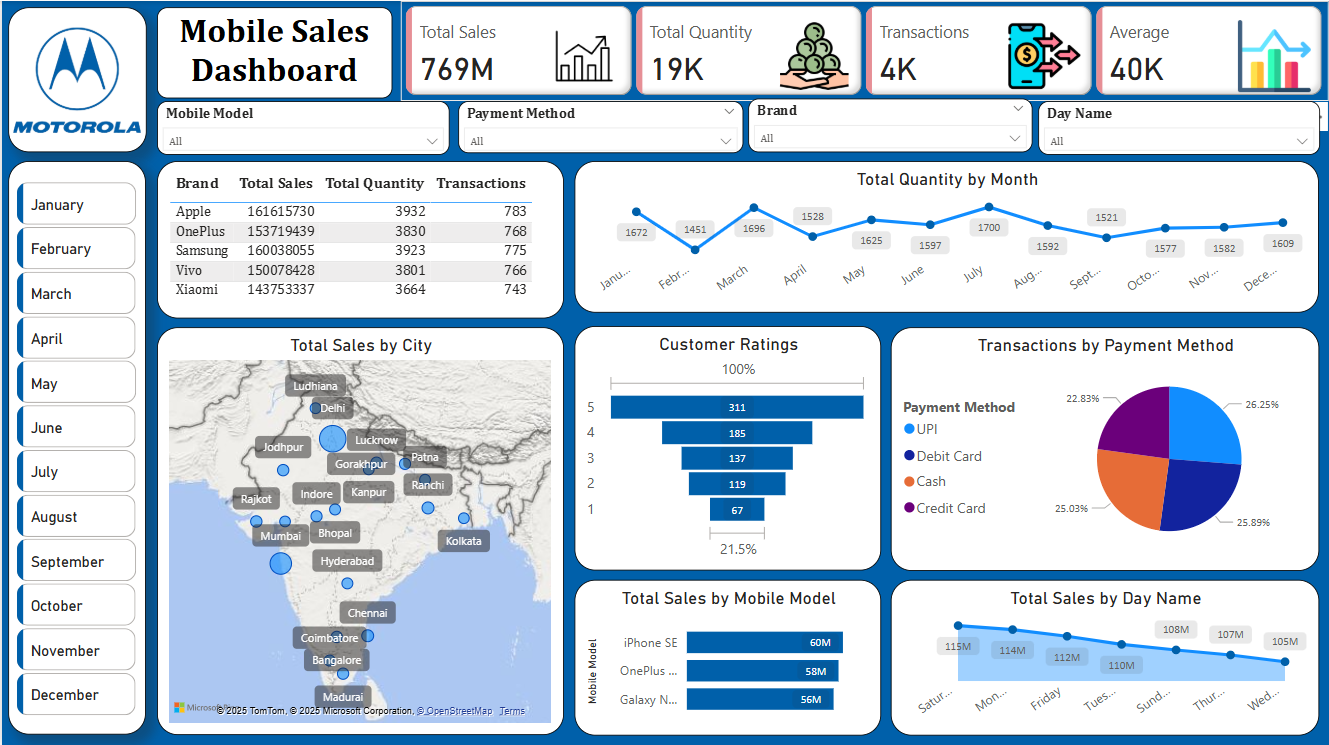

What the dashboard file says about the page in this screenshot:
{"tool":"powerbi","page":{"name":"Dashboard","canvas":[1280,720],"ordinal":0},"visuals":[{"type":"shape","box":[5.5,6.4,133.6,140],"z":0},{"type":"image","box":[5.5,6.4,132.7,140],"z":1000},{"type":"shape","box":[6,154.4,132.7,553.8],"z":2000},{"type":"advancedSlicerVisual","fields":{"Values":["Mobile Sales Data.Date.Variation.Date Hierarchy.Month"]},"box":[9.7,170.1,125.5,524.8],"z":3000},{"type":"cardVisual","fields":{"Data":["Mobile Sales Data.Total Sales","Mobile Sales Data.Total Quantity","Mobile Sales Data.Transactions","Mobile Sales Data.Average"]},"box":[384.9,0,895.2,96.5],"z":4000},{"type":"map","fields":{"Category":["Mobile Sales Data.City"],"Size":["Mobile Sales Data.Total Sales"]},"box":[150,315,392.5,393.8],"z":5000},{"type":"lineChart","fields":{"Y":["Mobile Sales Data.Total Quantity"],"Category":["Mobile Sales Data.Date.Variation.Date Hierarchy.Month","Mobile Sales Data.Date.Variation.Date Hierarchy.Day"]},"box":[552.5,155,718.8,146.2],"z":6000},{"type":"clusteredBarChart","fields":{"Category":["Mobile Sales Data.Mobile Model"],"Y":["Mobile Sales Data.Total Sales"]},"box":[552.5,558.8,296.2,150],"z":7000},{"type":"pieChart","fields":{"Category":["Mobile Sales Data.Payment Method"],"Y":["Mobile Sales Data.Transactions"]},"box":[857.5,315,413.8,235],"z":8000},{"type":"funnel","title":"Customer Ratings","fields":{"Category":["Mobile Sales Data.Customer Ratings"],"Y":["CountNonNull(Mobile Sales Data.Customer Ratings)"]},"box":[552.5,313.8,296.2,236.2],"z":9000},{"type":"areaChart","fields":{"Category":["Mobile Sales Data.Day Name"],"Y":["Mobile Sales Data.Total Sales"]},"box":[857.5,558.8,413.8,150],"z":10000},{"type":"tableEx","fields":{"Values":["Mobile Sales Data.Brand","Mobile Sales Data.Total Sales","Mobile Sales Data.Total Quantity","Mobile Sales Data.Transactions"]},"box":[149.6,154.9,392.9,152.2],"z":11000},{"type":"slicer","fields":{"Values":["Mobile Sales Data.Mobile Model"]},"box":[150,96.4,282.7,51.8],"z":12000},{"type":"slicer","fields":{"Values":["Mobile Sales Data.Payment Method"]},"box":[440,96.4,275.5,50],"z":13000},{"type":"slicer","fields":{"Values":["Mobile Sales Data.Brand"]},"box":[720,94.5,274.5,51.8],"z":14000},{"type":"slicer","fields":{"Values":["Mobile Sales Data.Day Name"]},"box":[1000,96.4,271.8,51.8],"z":15000},{"type":"textbox","box":[149.6,6,226.8,88.1],"z":16000}]}

Visuals, with their boxes in screenshot pixels (x1, y1, x2, y2), scaled from the page's 1280x720 canvas onto the 1329x745 screenshot:
shape: l=6, t=7, r=144, b=151
image: l=6, t=7, r=143, b=151
shape: l=6, t=160, r=144, b=733
advancedSlicerVisual - Mobile Sales Data.Date.Variation.Date Hierarchy.Month: l=10, t=176, r=140, b=719
cardVisual - Mobile Sales Data.Total Sales x Mobile Sales Data.Total Quantity: l=400, t=0, r=1328, b=100
map - Mobile Sales Data.City x Mobile Sales Data.Total Sales: l=156, t=326, r=563, b=733
lineChart - Mobile Sales Data.Total Quantity x Mobile Sales Data.Date.Variation.Date Hierarchy.Month: l=574, t=160, r=1320, b=312
clusteredBarChart - Mobile Sales Data.Mobile Model x Mobile Sales Data.Total Sales: l=574, t=578, r=881, b=733
pieChart - Mobile Sales Data.Payment Method x Mobile Sales Data.Transactions: l=890, t=326, r=1320, b=569
"Customer Ratings" funnel: l=574, t=325, r=881, b=569
areaChart - Mobile Sales Data.Day Name x Mobile Sales Data.Total Sales: l=890, t=578, r=1320, b=733
tableEx - Mobile Sales Data.Brand x Mobile Sales Data.Total Sales: l=155, t=160, r=563, b=318
slicer - Mobile Sales Data.Mobile Model: l=156, t=100, r=449, b=153
slicer - Mobile Sales Data.Payment Method: l=457, t=100, r=743, b=151
slicer - Mobile Sales Data.Brand: l=748, t=98, r=1033, b=151
slicer - Mobile Sales Data.Day Name: l=1038, t=100, r=1320, b=153
textbox: l=155, t=6, r=391, b=97
